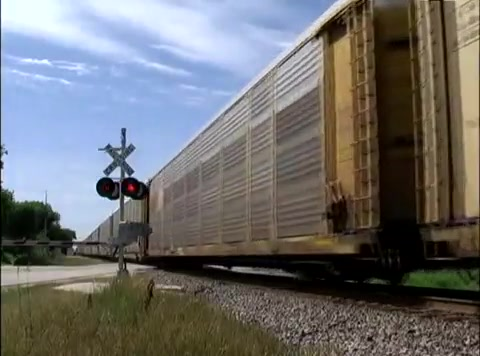train: (74, 1, 480, 283)
